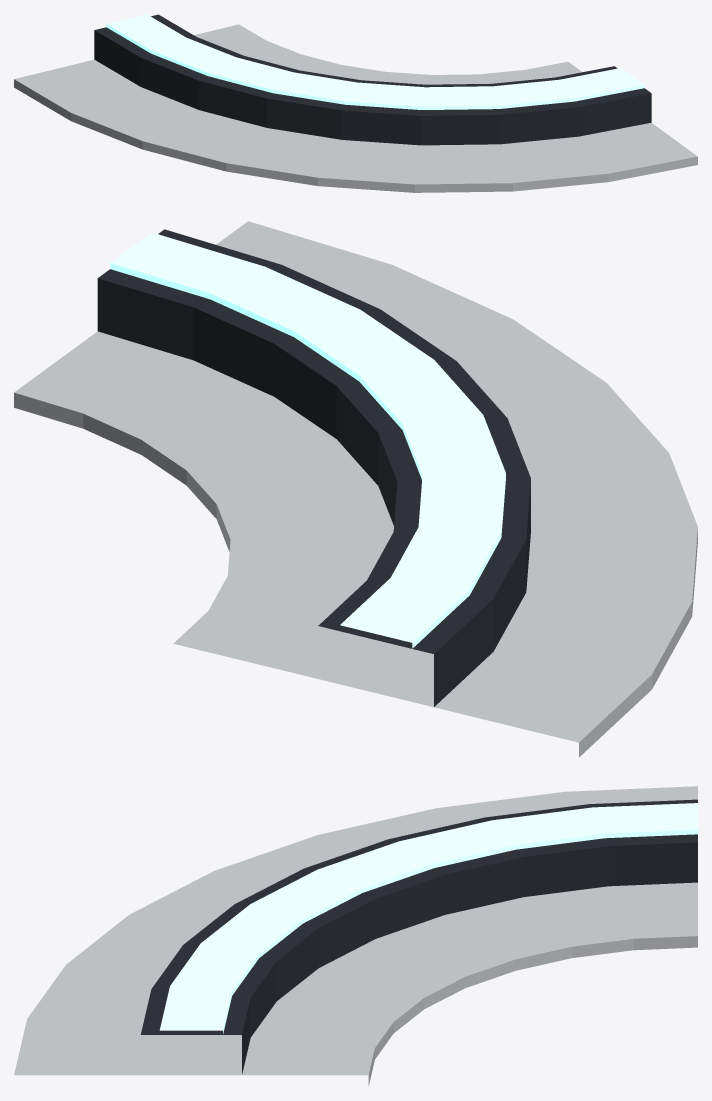
The model's file is road_rail_x_curve.glb.
3 views of the same model, one above another, from view 1: azimuth 30°, elevation 25°; view 2: azimuth 150°, elevation 25°; view 3: azimuth 270°, elevation 25° (orthographic). The views are drawn at different scales.
Parts seen in each view (by area): view 1: body; view 2: body; view 3: body.
Part boxes in pixels (x1,y1,x2,y2): body: (14,14,697,192); body: (14,221,697,757); body: (14,786,697,1085).
Size of what is drawn, in the model's own units: 5.4 by 0.49 by 5.4.
